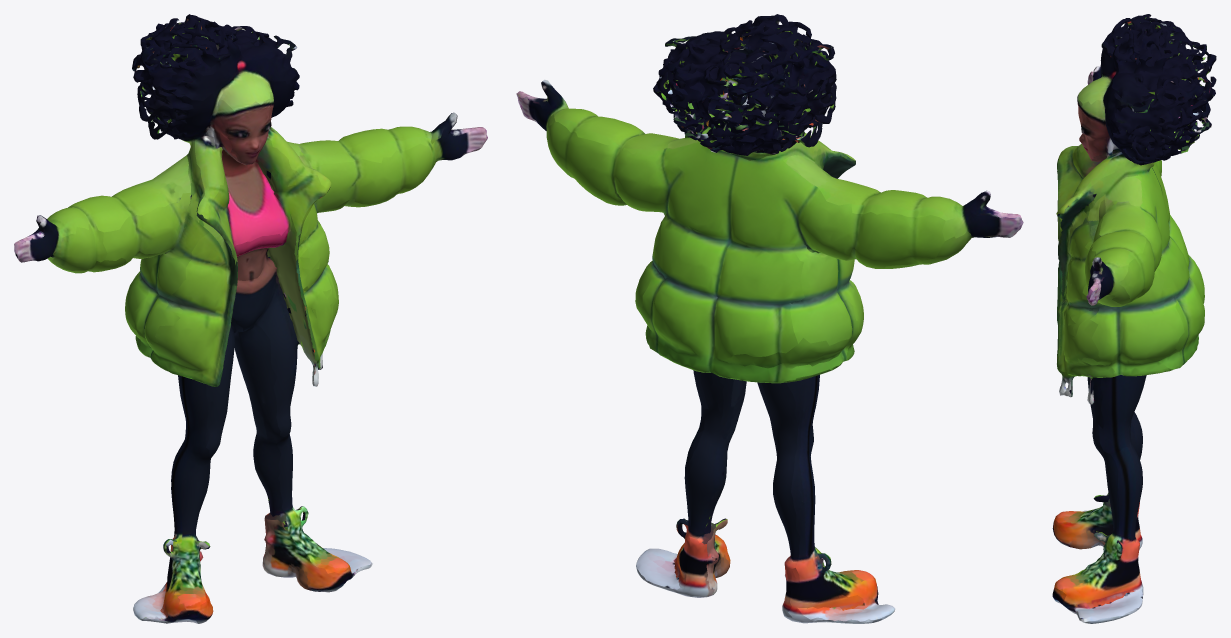
The model's file is gaeli-mesh.glb.
3 renders of one model, left to right at view 1: azimuth 30°, elevation 25°; view 2: azimuth 150°, elevation 25°; view 3: azimuth 270°, elevation 25°, orthographic. The views are drawn at different scales.
Parts seen in each view (by area): view 1: tmpuowsx49d.ply; view 2: tmpuowsx49d.ply; view 3: tmpuowsx49d.ply.
Boxes of the visible parts, x1,y1,x2,y2 form: tmpuowsx49d.ply: [14, 14, 487, 623]; tmpuowsx49d.ply: [516, 14, 1023, 623]; tmpuowsx49d.ply: [1052, 14, 1216, 623].
Bounding box in the file's own units: 0.8661 × 0.987 × 0.2725.
1 material, 1 textured.
